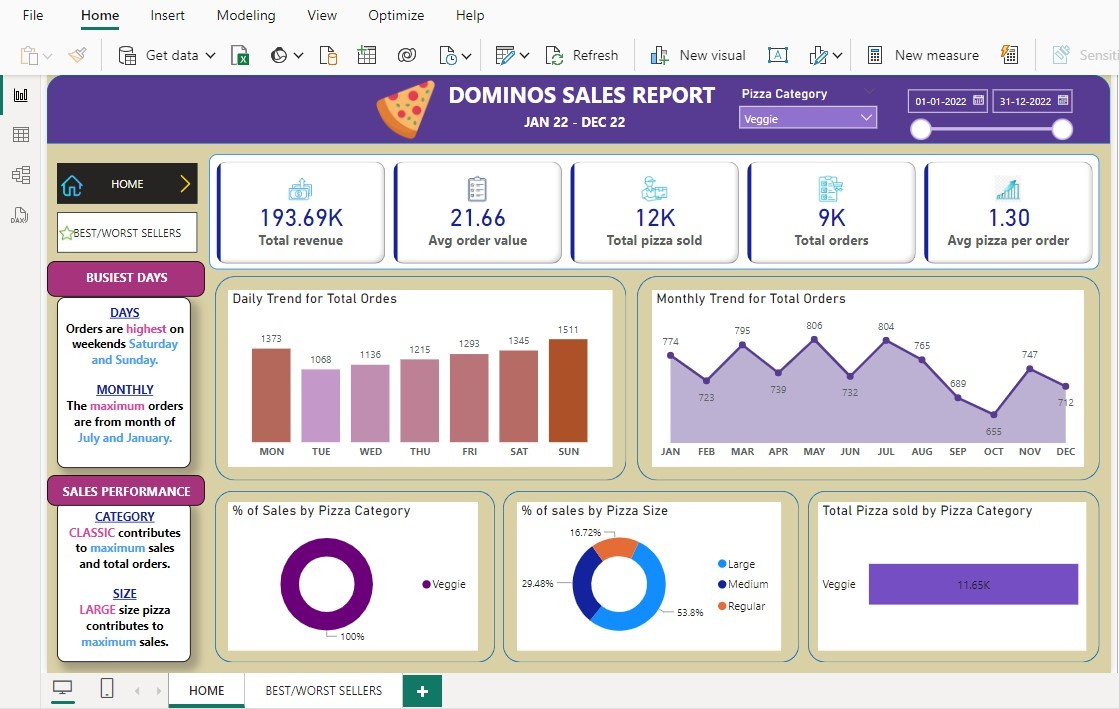

What the dashboard file says about the page in this screenshot:
{"tool":"powerbi","page":{"name":"HOME","canvas":[1280,720],"ordinal":0},"visuals":[{"type":"cardVisual","fields":{"Data":["Key_measures.Total revenue","Key_measures.Avg order value","Key_measures.Total pizza sold","Key_measures.Total orders","Key_measures.Avg pizza per order"]},"box":[195.4,95,1072.2,139],"z":0},{"type":"shape","box":[202.3,501,337.2,206.5],"z":0,"group":"g5"},{"type":"shape","box":[549.2,501,356.5,206.5],"z":0,"group":"g6"},{"type":"group","id":"g1","title":"Group 5","box":[916.6,501,351,206.5],"z":0,"group":"g7"},{"type":"shape","box":[916.6,501,351,206.5],"z":0,"group":"g1"},{"type":"shape","box":[0,0,1280,82.6],"z":1000},{"type":"donutChart","title":"% of Sales by Pizza Category","fields":{"Category":["dominos_sales.pizza_category"],"Y":["Key_measures.Total revenue"]},"box":[217.9,514.8,300.7,178.9],"z":1000,"group":"g5"},{"type":"donutChart","title":"% of sales by Pizza Size","fields":{"Category":["dominos_sales.pizza_size"],"Y":["Key_measures.Total revenue"]},"box":[565.7,514.8,317.9,178.9],"z":1000,"group":"g6"},{"type":"funnel","title":"Total Pizza sold by Pizza Category","fields":{"Category":["dominos_sales.pizza_category"],"Y":["Key_measures.Total pizza sold"]},"box":[929,514.8,323.4,178.9],"z":1000,"group":"g7"},{"type":"textbox","box":[12.4,267,161,206.5],"z":2000},{"type":"textbox","box":[478.5,0,339.5,82.2],"z":3000},{"type":"group","id":"g2","title":"Group 4","box":[202.3,242.2,495.5,246.4],"z":3001,"group":"g3"},{"type":"group","id":"g3","title":"Group 1","box":[202.3,242.2,495.5,246.4],"z":4000},{"type":"textbox","box":[570.1,41.3,140.4,31.7],"z":5000},{"type":"shape","box":[202.3,242.2,495.5,246.4],"z":5000,"group":"g2"},{"type":"group","id":"g4","title":"Group 2","box":[710.2,242.2,557.4,246.4],"z":6000},{"type":"clusteredColumnChart","title":"Daily Trend for Total Ordes","fields":{"Category":["dominos_sales.Order day"],"Y":["Key_measures.Total orders"]},"box":[217.9,259.4,462.9,213.3],"z":6000,"group":"g2"},{"type":"image","box":[389.8,0,82.6,82.6],"z":7000},{"type":"shape","box":[710.2,242.2,557.4,246.4],"z":7000,"group":"g4"},{"type":"areaChart","title":"Monthly Trend for Total Orders","fields":{"Category":["dominos_sales.Order month"],"Y":["Key_measures.Total orders"]},"box":[728.7,259.4,520.4,213.3],"z":8000,"group":"g4"},{"type":"group","id":"g5","title":"Group 5","box":[202.3,501,337.2,206.5],"z":8000},{"type":"group","id":"g6","title":"Group 5","box":[549.2,501,356.5,206.5],"z":9000},{"type":"group","id":"g7","title":"Group 6","box":[916.6,501,351,206.5],"z":10000},{"type":"textbox","box":[12.4,513.4,161,194.1],"z":11000},{"type":"textbox","box":[0,224.3,189.9,42.7],"z":12000},{"type":"textbox","box":[0,481.7,189.9,37.2],"z":13000},{"type":"slicer","fields":{"Values":["dominos_sales.pizza_category"]},"box":[823.1,6.9,185.8,66.1],"z":14000},{"type":"slicer","fields":{"Values":["dominos_sales.order_date"]},"box":[1018.2,2.6,229.9,80.1],"z":15000},{"type":"pageNavigator","box":[12.4,106,169.3,49.5],"z":16000},{"type":"pageNavigator","box":[12.4,165.2,169.3,49.5],"z":17000},{"type":"image","box":[150,106,31.7,49.5],"z":18000},{"type":"image","box":[12.4,112.9,35.8,38.5],"z":19000},{"type":"image","box":[9.6,166.5,27.5,46.8],"z":20000}]}

Visuals, with their boxes on the page's 1280x720 design canvas (x1, y1, x2, y2). These are canvas units, not pixel positions in the 1119x709 screenshot, which may show the page scaled, cropped or inside an application window:
cardVisual - Key_measures.Total revenue x Key_measures.Avg order value: Rect(195, 95, 1268, 234)
shape: Rect(202, 501, 540, 708)
shape: Rect(549, 501, 906, 708)
"Group 5" group: Rect(917, 501, 1268, 708)
shape: Rect(917, 501, 1268, 708)
shape: Rect(0, 0, 1280, 83)
"% of Sales by Pizza Category" donutChart: Rect(218, 515, 519, 694)
"% of sales by Pizza Size" donutChart: Rect(566, 515, 884, 694)
"Total Pizza sold by Pizza Category" funnel: Rect(929, 515, 1252, 694)
textbox: Rect(12, 267, 173, 474)
textbox: Rect(478, 0, 818, 82)
"Group 4" group: Rect(202, 242, 698, 489)
"Group 1" group: Rect(202, 242, 698, 489)
textbox: Rect(570, 41, 710, 73)
shape: Rect(202, 242, 698, 489)
"Group 2" group: Rect(710, 242, 1268, 489)
"Daily Trend for Total Ordes" clusteredColumnChart: Rect(218, 259, 681, 473)
image: Rect(390, 0, 472, 83)
shape: Rect(710, 242, 1268, 489)
"Monthly Trend for Total Orders" areaChart: Rect(729, 259, 1249, 473)
"Group 5" group: Rect(202, 501, 540, 708)
"Group 5" group: Rect(549, 501, 906, 708)
"Group 6" group: Rect(917, 501, 1268, 708)
textbox: Rect(12, 513, 173, 708)
textbox: Rect(0, 224, 190, 267)
textbox: Rect(0, 482, 190, 519)
slicer - dominos_sales.pizza_category: Rect(823, 7, 1009, 73)
slicer - dominos_sales.order_date: Rect(1018, 3, 1248, 83)
pageNavigator: Rect(12, 106, 182, 156)
pageNavigator: Rect(12, 165, 182, 215)
image: Rect(150, 106, 182, 156)
image: Rect(12, 113, 48, 151)
image: Rect(10, 166, 37, 213)
